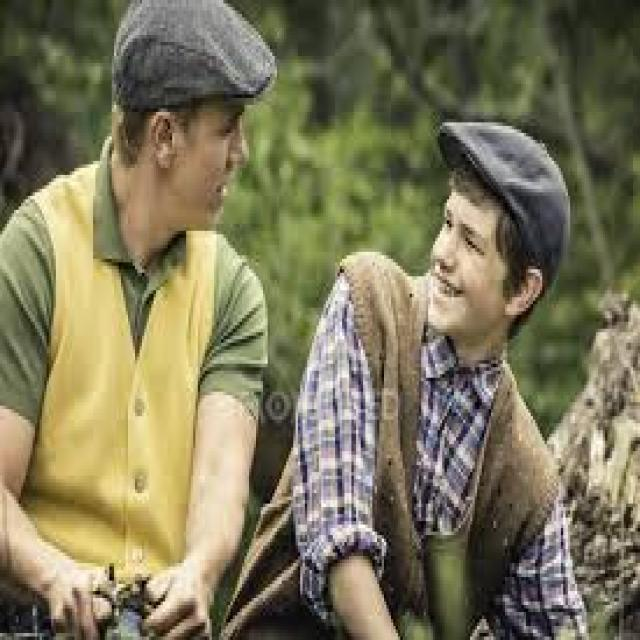cap: (104, 0, 288, 164), (433, 119, 570, 304)
